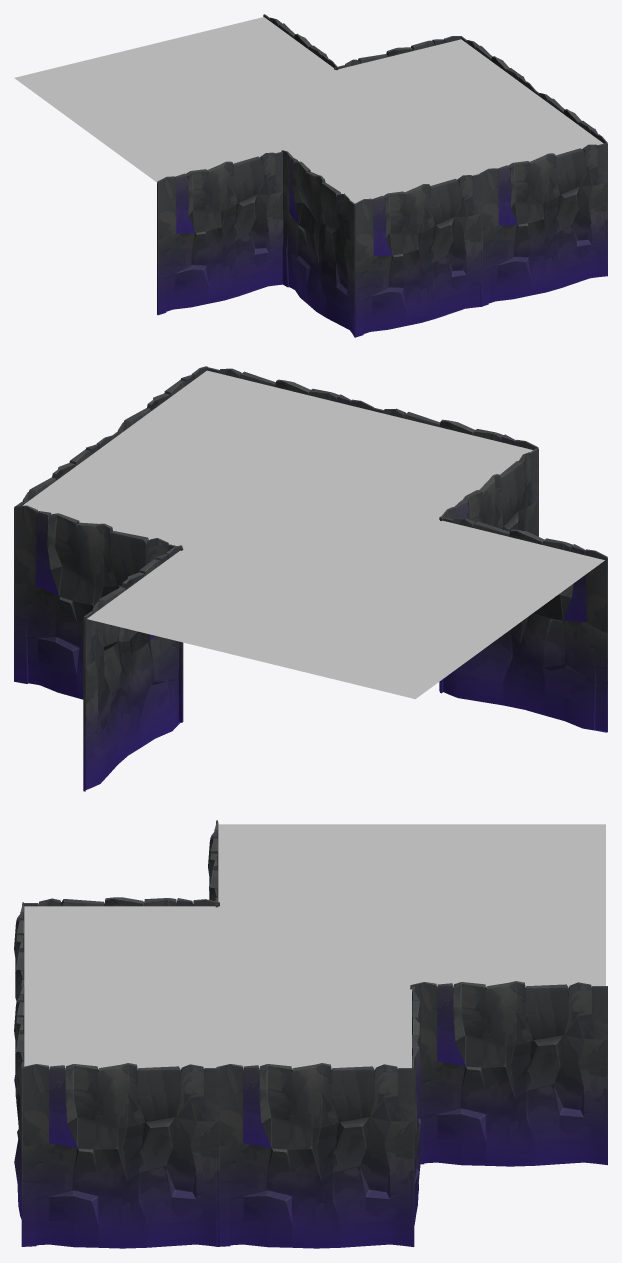
File: Floor_Ottuck.FBX
3 renders of one model, top to bottom at view 1: azimuth 30°, elevation 25°; view 2: azimuth 150°, elevation 25°; view 3: azimuth 270°, elevation 25°, orthographic. The views are drawn at different scales.
Parts seen in each view (by area): view 1: Floor_Ottuk, floor; view 2: floor, Floor_Ottuk; view 3: Floor_Ottuk, floor.
Part boxes in pixels (<box>): Floor_Ottuk: <box>157,14,607,337</box>; floor: <box>14,17,603,203</box>; floor: <box>23,370,604,699</box>; Floor_Ottuk: <box>14,366,607,791</box>; Floor_Ottuk: <box>14,820,607,1248</box>; floor: <box>24,824,605,1069</box>.
Bounding box in the file's own units: 1206 × 411 × 1206.
